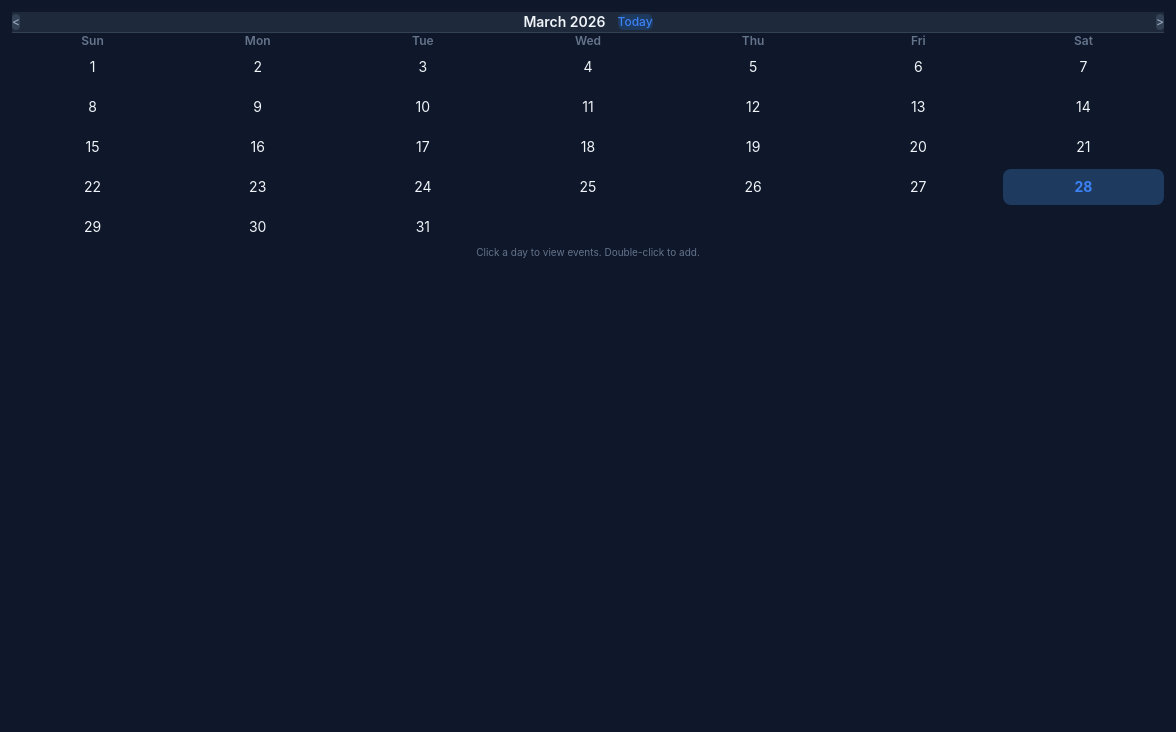
Test: Calendar › opens events sidebar when a day is clicked
# Click on day 15
Click the text "15" at (93, 146), box [86,138,100,155]
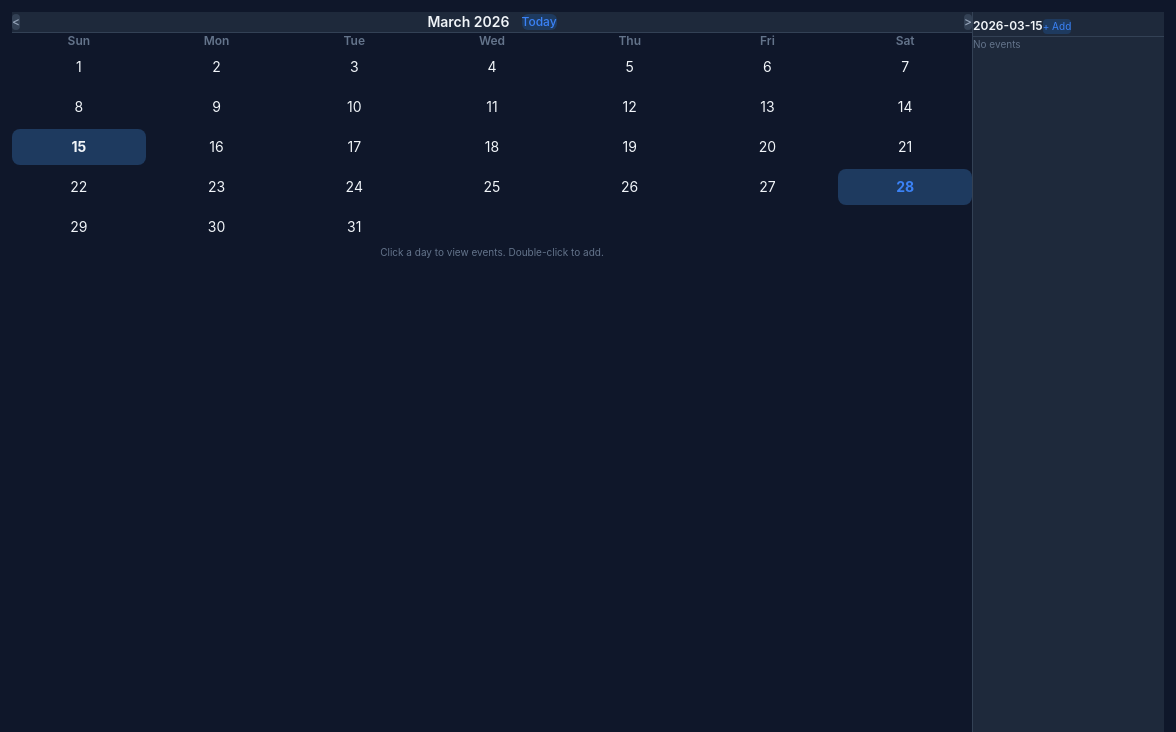
expect the button "+ Add" is shown: met, box [1043,19,1071,34]
